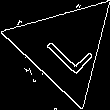L_NW: (35, 18, 93, 76)
